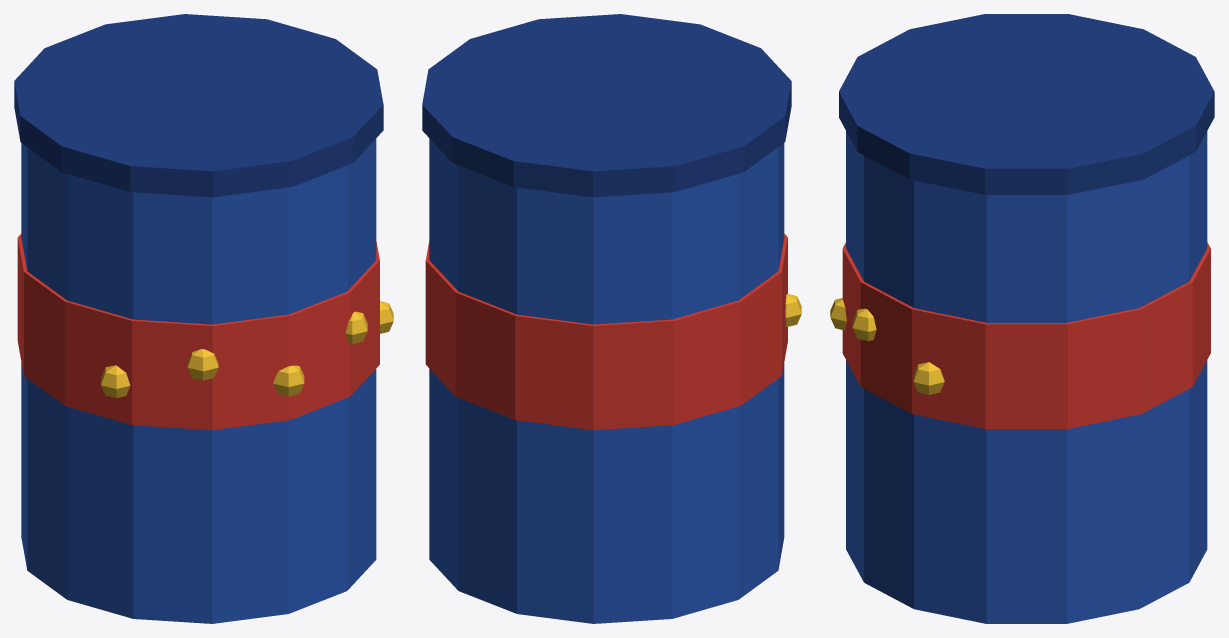
Rendered from itch_drum.glb.
3 views of the same model, side by side, from view 1: azimuth 30°, elevation 25°; view 2: azimuth 150°, elevation 25°; view 3: azimuth 270°, elevation 25° (orthographic).
Parts seen in each view (by area): view 1: drum_drum_blue, lid_drum_lid, band_drum_red, dots_drum_yellow (×4); view 2: drum_drum_blue, lid_drum_lid, band_drum_red; view 3: drum_drum_blue, lid_drum_lid, band_drum_red, dots_drum_yellow (×2).
Boxes of the visible parts, bbox=[...] form: drum_drum_blue: bbox=[21, 138, 376, 623]; lid_drum_lid: bbox=[14, 14, 383, 197]; band_drum_red: bbox=[17, 234, 379, 430]; dots_drum_yellow (×4): bbox=[101, 311, 367, 398]; drum_drum_blue: bbox=[429, 138, 784, 623]; lid_drum_lid: bbox=[422, 14, 791, 197]; band_drum_red: bbox=[425, 234, 787, 430]; drum_drum_blue: bbox=[846, 131, 1207, 623]; lid_drum_lid: bbox=[839, 14, 1214, 194]; band_drum_red: bbox=[842, 242, 1210, 428]; dots_drum_yellow (×2): bbox=[852, 308, 944, 394].
Size of the model in its own units: 0.507 by 0.7 by 0.5317.
